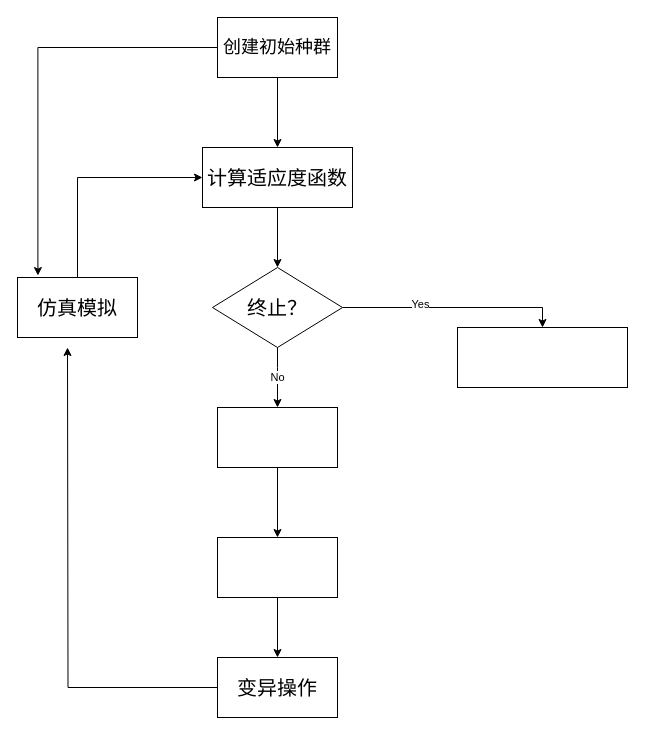
Some shapes in this 645 by 735 pixel diagram are drawn without their labels. The shapes that lost their labels are listed below. From the top down, each one's box as (x1, y1, x2, y2) in pixels, then its label:
(456, 326, 628, 388): 输出最优个体解集
(216, 406, 338, 468): 选择操作
(216, 536, 338, 598): 交叉操作
